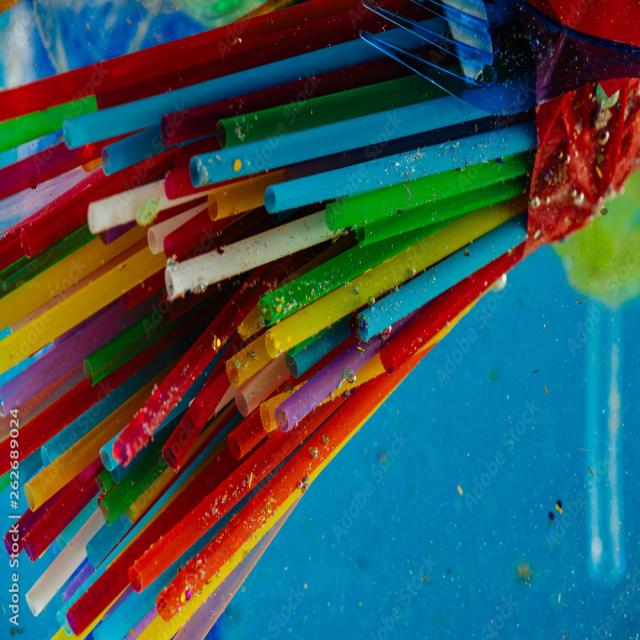plastic: (171, 108, 516, 188)
